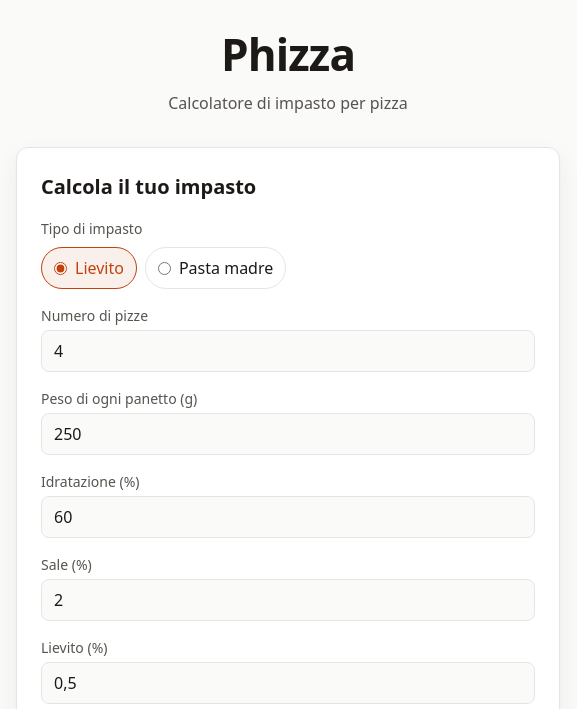
Test case: App › shows an impossible-calculation error for incompatible sourdough values
Click the radio button labelled "Pasta madre" at (164,268), box left=158, top=262, right=171, bottom=274
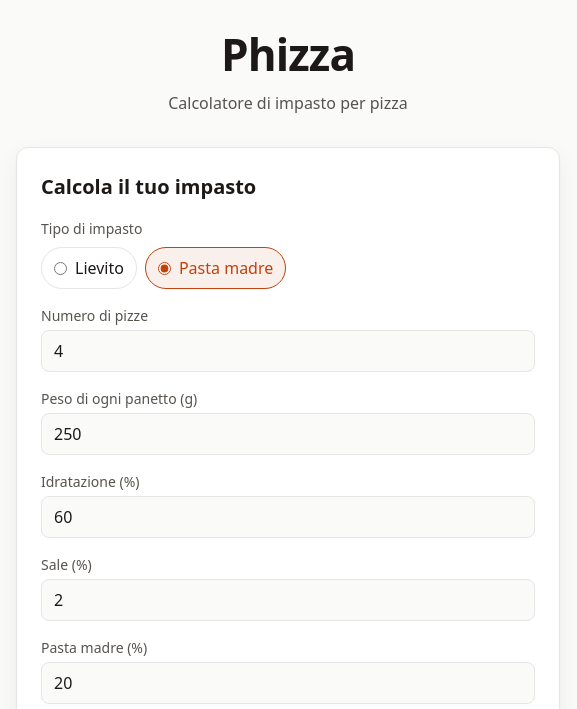
Replace the text in the field labelled "Pasta madre (%)" with "100" at (288,683), box left=41, top=662, right=535, bottom=704
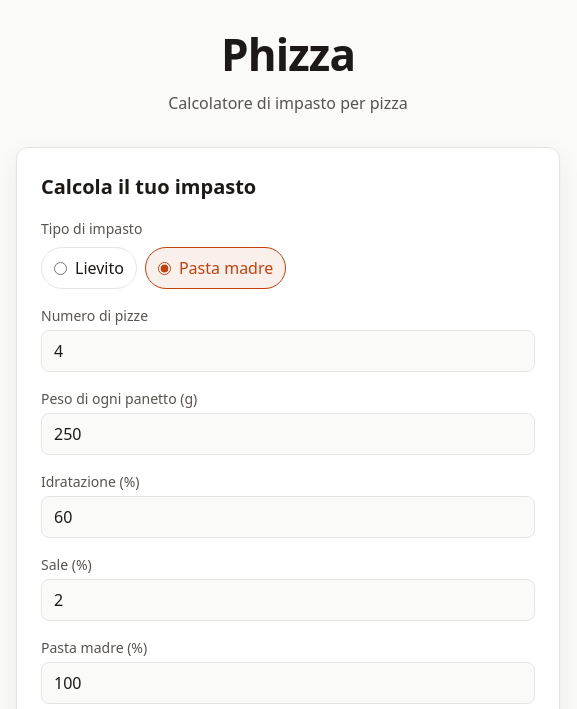
Replace the text in the field labelled "Idratazione (%)" with "30" at (288,517), box left=41, top=496, right=535, bottom=538
(page scrolled)
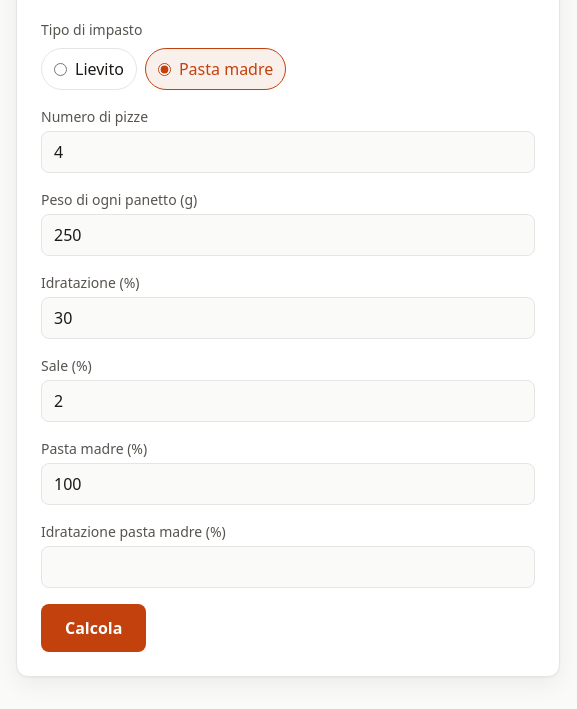
Click the button "Calcola" at (94,628), box left=41, top=604, right=146, bottom=652
(page scrolled)
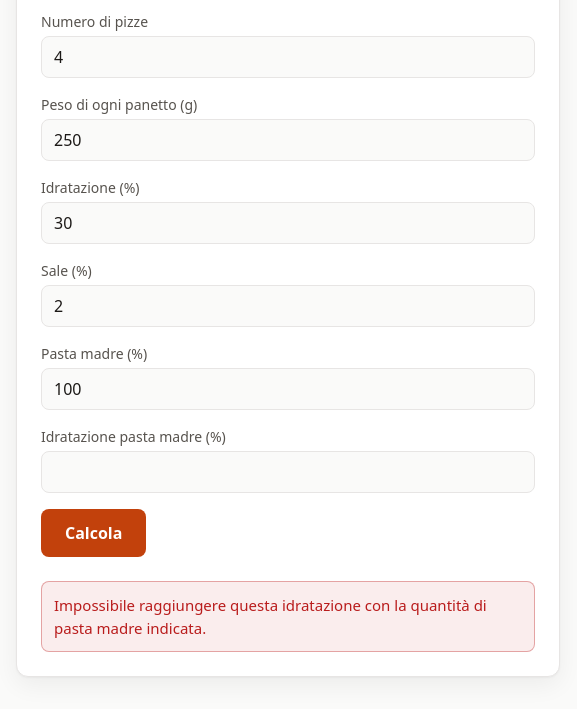
Check: the message shows "Impossibile raggiungere questa idratazione", box left=54, top=595, right=487, bottom=638
